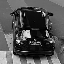motor: (16, 8, 49, 57)
